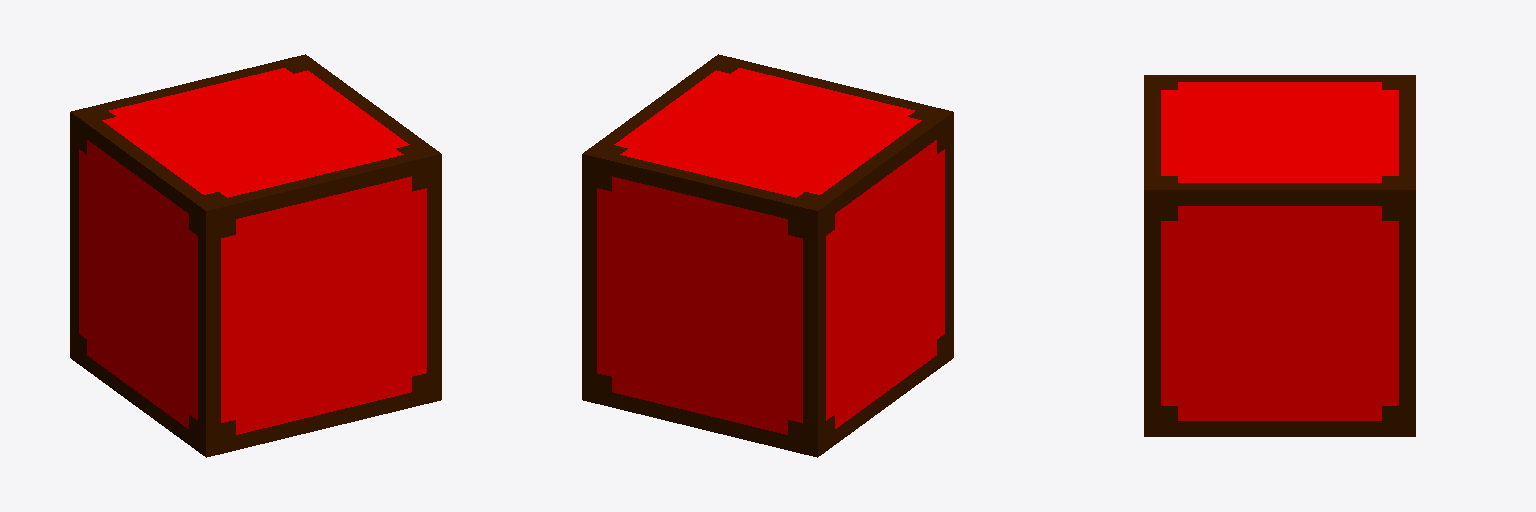
3 renders of one model, left to right at view 1: azimuth 30°, elevation 25°; view 2: azimuth 150°, elevation 25°; view 3: azimuth 270°, elevation 25°, orthographic.
Parts seen in each view (by area): view 1: 0_red; view 2: 0_red; view 3: 0_red.
Part boxes in pixels (x1,y1,x2,y2): 0_red: (70, 54, 441, 457); 0_red: (582, 54, 953, 457); 0_red: (1144, 75, 1415, 436).
Bounding box in the file's own units: 1 × 1 × 1.
Materials: 1 (1 with a texture image).